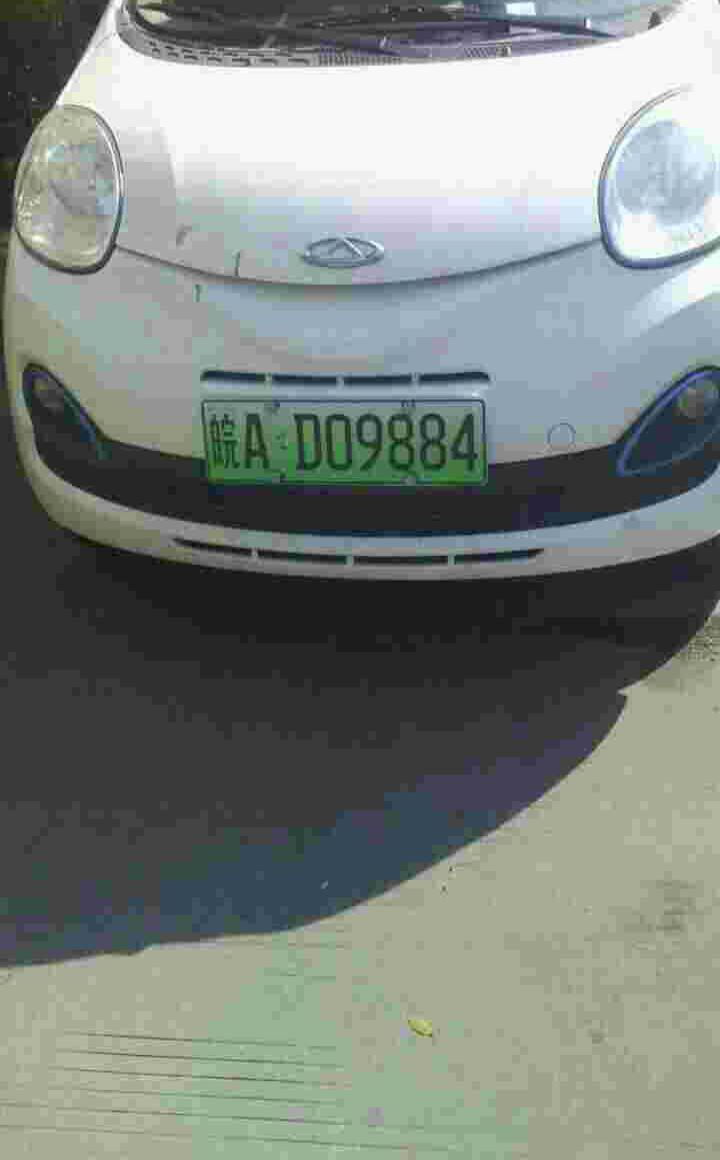car: (200, 400, 498, 494)
